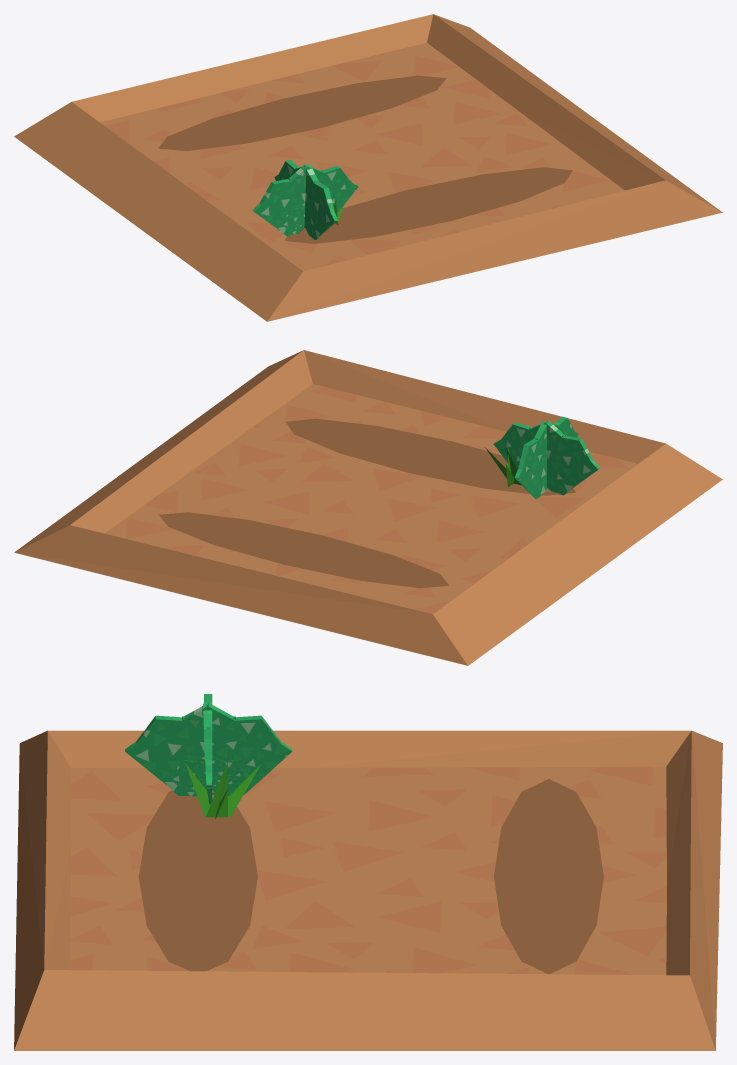
Rendered from herb_plot.glb.
The picture shows the model from 3 angles, top to bottom: view 1: azimuth 30°, elevation 25°; view 2: azimuth 150°, elevation 25°; view 3: azimuth 270°, elevation 25°; orthographic projection. The views are drawn at different scales.
Visible parts, largest first — view 1: herb_plot, herb_plot_water, herb_plot_finished; view 2: herb_plot, herb_plot_water, herb_plot_finished; view 3: herb_plot, herb_plot_water, herb_plot_finished, herb_plot_medium, herb_plot_weeds.
Boxes of the visible parts, x1,y1,x2,y2 form: herb_plot: (14,14,722,321); herb_plot_water: (158,75,572,243); herb_plot_finished: (252,160,358,239); herb_plot: (14,350,722,665); herb_plot_water: (159,418,575,588); herb_plot_finished: (493,416,599,498); herb_plot: (14,730,722,1050); herb_plot_water: (138,779,603,974); herb_plot_finished: (125,694,292,804); herb_plot_medium: (167,756,248,796); herb_plot_weeds: (186,757,260,819).
Bounding box in the file's own units: 2.12 × 0.368 × 2.06.
Materials: 5 (2 with a texture image).
